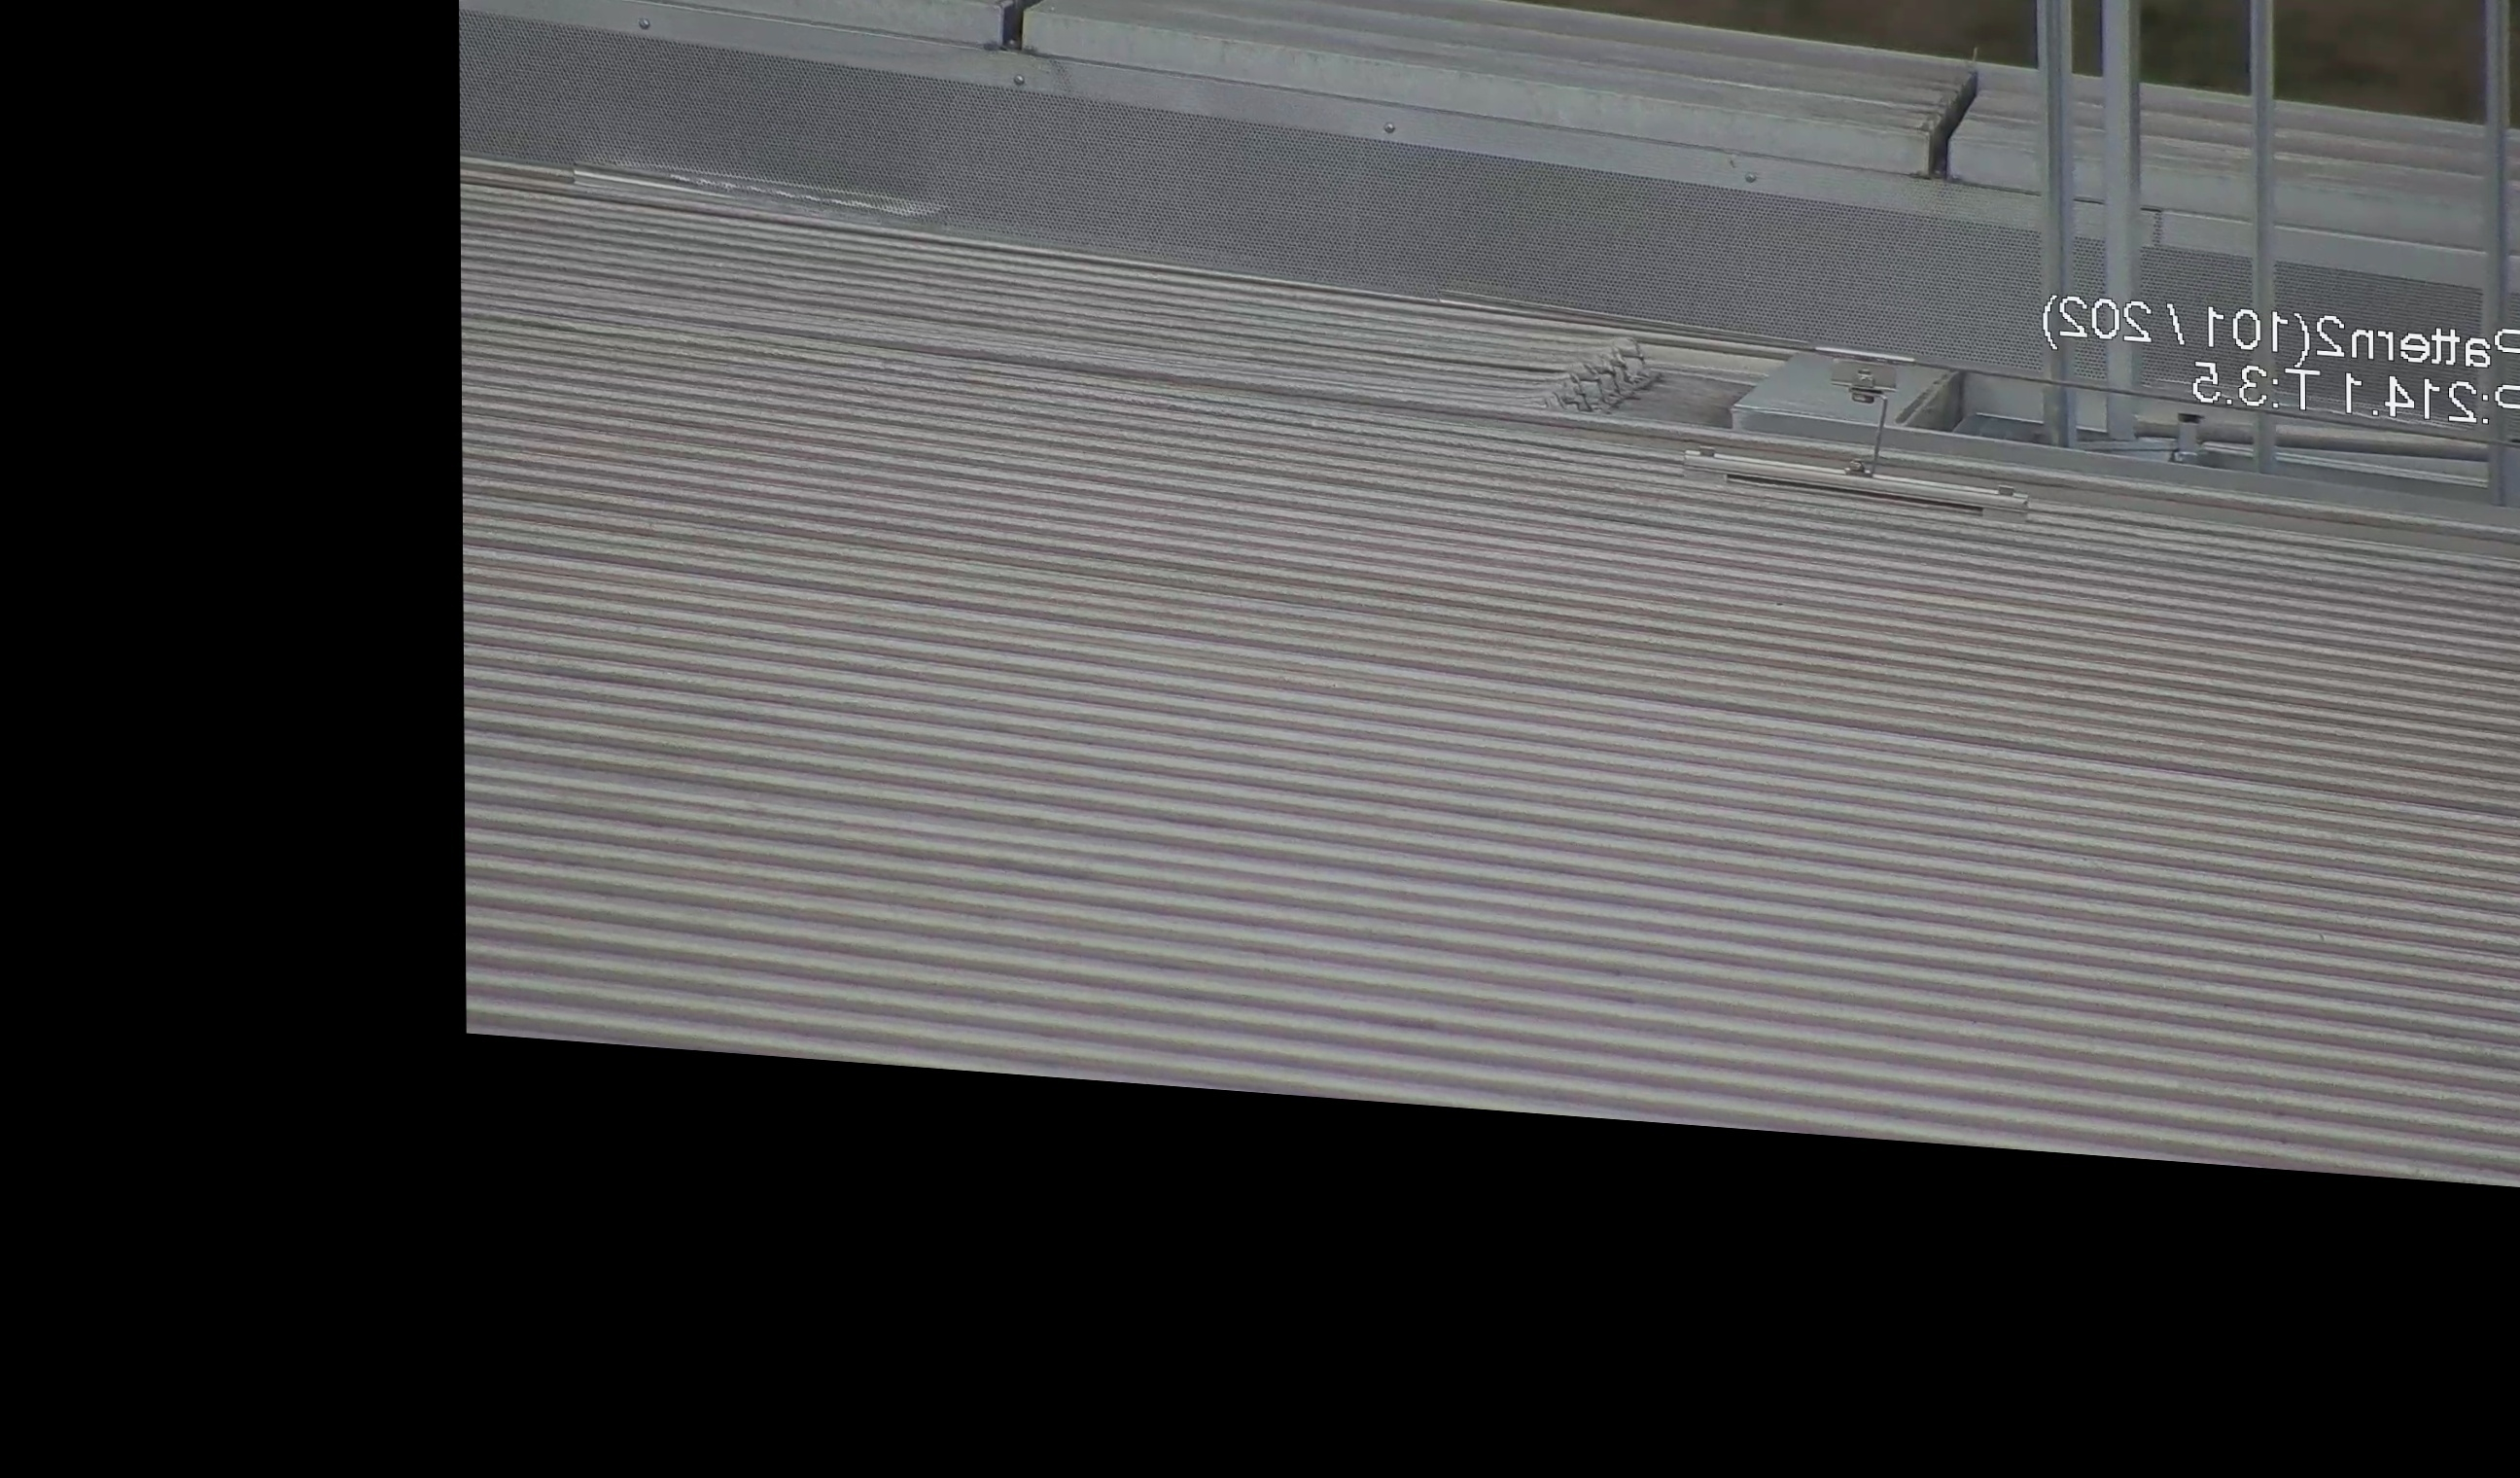Other: (1915, 51, 2001, 187)
